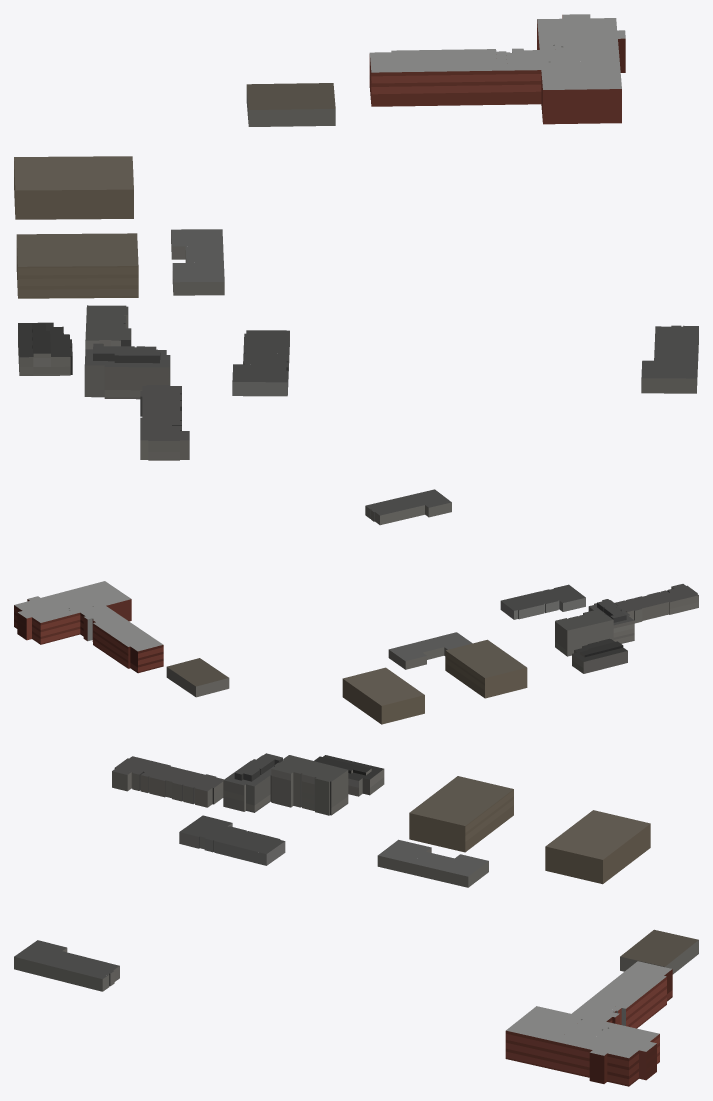
File: t_2_-3.far.glb
3 views of the same model, one above another, from view 1: azimuth 30°, elevation 25°; view 2: azimuth 150°, elevation 25°; view 3: azimuth 270°, elevation 25° (orthographic). The views are drawn at different scales.
Visible parts, largest first — view 1: opaque; view 2: opaque; view 3: opaque.
Boxes of the visible parts, box(x1,y1,x2,y2) form: opaque: box(14, 14, 698, 460); opaque: box(14, 489, 698, 724); opaque: box(14, 753, 698, 1086).
Bounding box in the file's own units: 228 × 11.34 × 208.
Materials: 1 (1 with a texture image).
